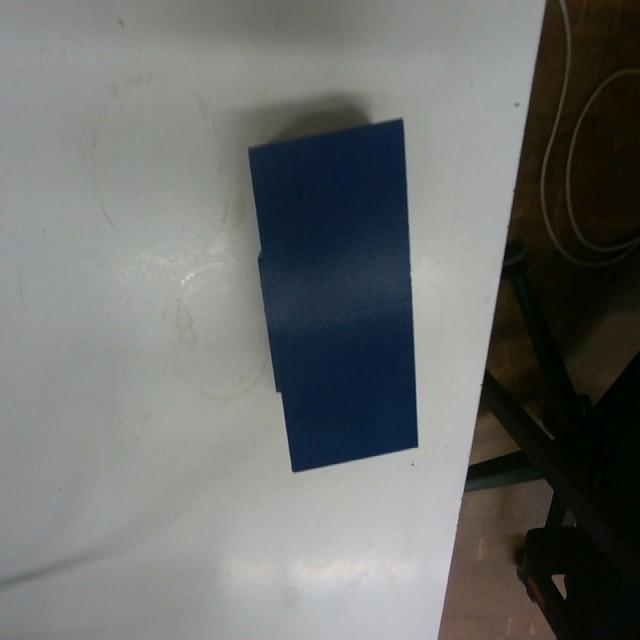Blue Cuboid: (244, 114, 422, 474)
